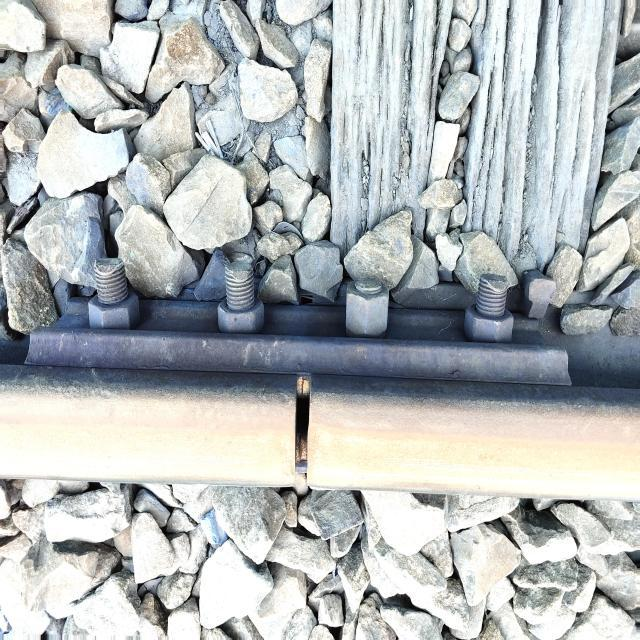Good Joint: (26, 250, 571, 385)
